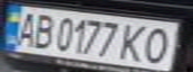0: (51, 15, 75, 52)
1: (69, 16, 87, 54)
7: (96, 19, 124, 60), (81, 17, 103, 56)
A: (9, 9, 42, 47)
B: (27, 10, 57, 49)
K: (115, 21, 151, 63)
O: (136, 25, 181, 65)
